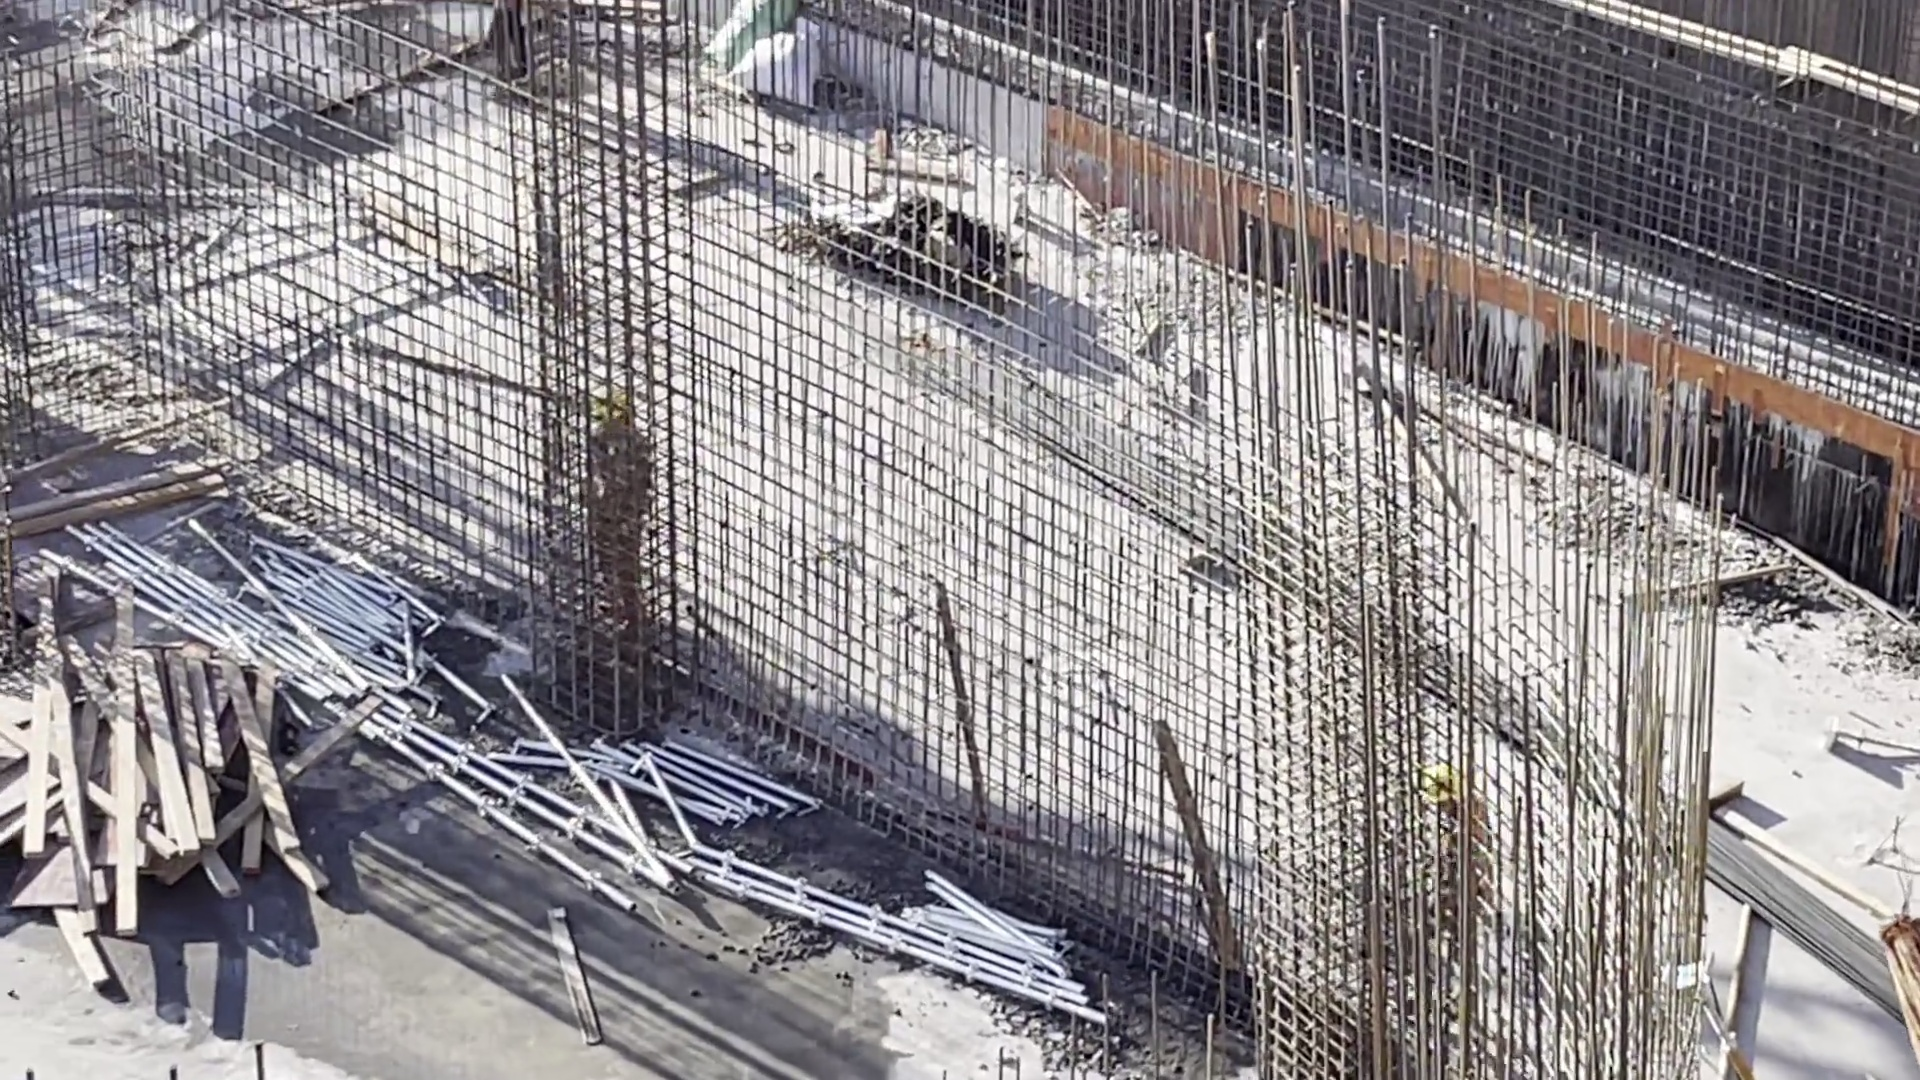helmet: (581, 385, 645, 426)
person: (566, 378, 677, 645)
rebar: (1692, 823, 1920, 999)
scaffold: (149, 533, 438, 709), (558, 719, 816, 883), (896, 890, 1113, 1024)
wood: (15, 623, 311, 938)
